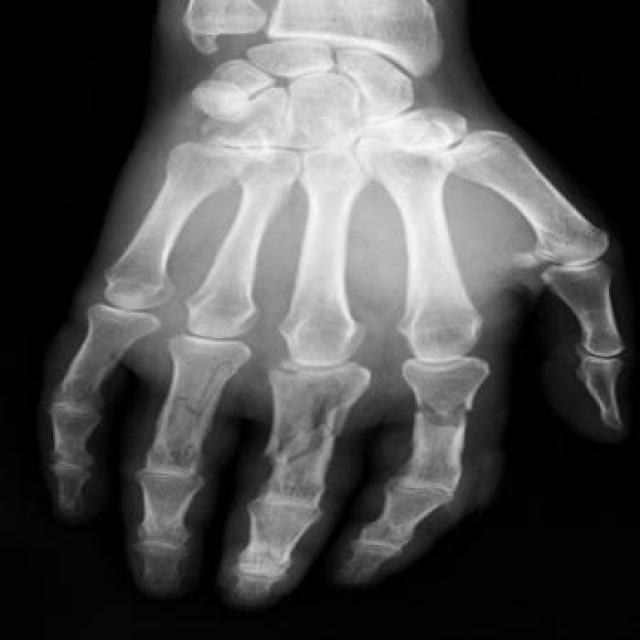fracture: (258, 391, 369, 478), (152, 367, 245, 436), (408, 388, 503, 442)
